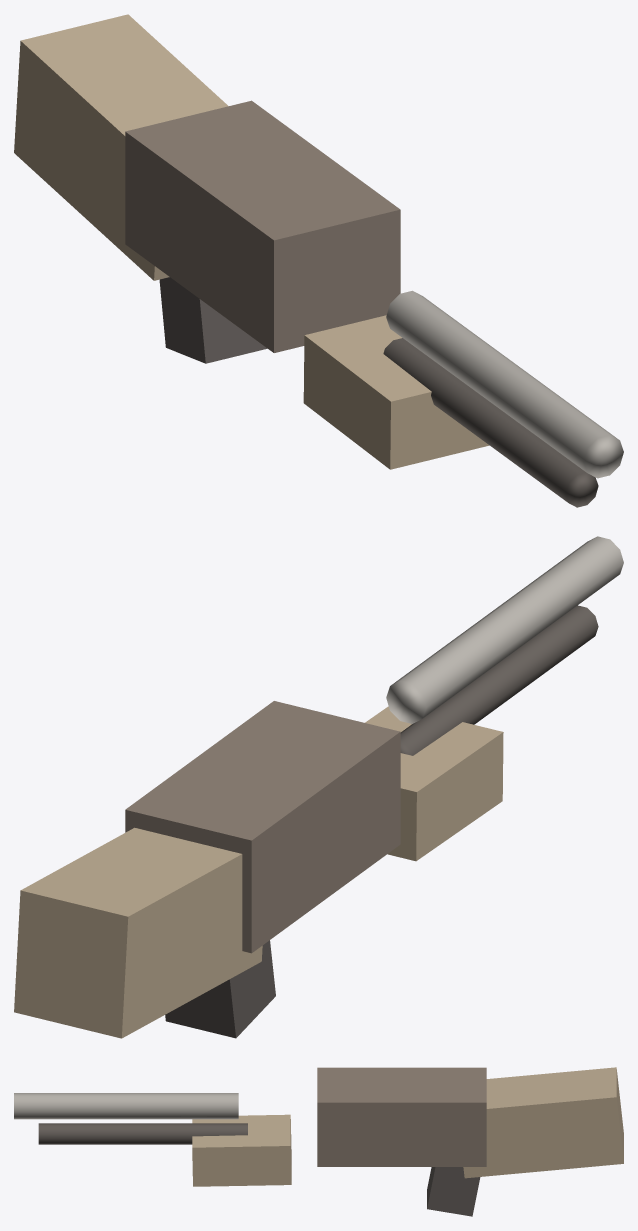
The model's file is weapon-shotgun-lod1.glb.
3 views of the same model, one above another, from view 1: azimuth 30°, elevation 25°; view 2: azimuth 150°, elevation 25°; view 3: azimuth 270°, elevation 25° (orthographic). The views are drawn at different scales.
Parts seen in each view (by area): view 1: weapon-lod1-body, weapon-lod1-accent, weapon-lod1-metal, weapon-lod1-dark, weapon-lod1-rubber; view 2: weapon-lod1-accent, weapon-lod1-body, weapon-lod1-metal, weapon-lod1-dark, weapon-lod1-rubber; view 3: weapon-lod1-accent, weapon-lod1-body, weapon-lod1-metal, weapon-lod1-dark, weapon-lod1-rubber.
Part boxes in pixels (x1,y1,x2,y2): weapon-lod1-body: (125,100,400,352); weapon-lod1-accent: (14,14,489,469); weapon-lod1-metal: (386,290,623,478); weapon-lod1-dark: (383,338,598,507); weapon-lod1-rubber: (159,277,267,363); weapon-lod1-accent: (14,706,503,1038); weapon-lod1-body: (125,701,400,953); weapon-lod1-metal: (386,536,623,723); weapon-lod1-dark: (400,605,598,755); weapon-lod1-rubber: (165,940,275,1038); weapon-lod1-accent: (192,1067,623,1186); weapon-lod1-body: (317,1067,486,1166); weapon-lod1-metal: (14,1093,238,1119); weapon-lod1-dark: (38,1123,247,1144); weapon-lod1-rubber: (427,1167,480,1216).
Bounding box in the file's own units: 0.27 × 0.4465 × 1.98.
